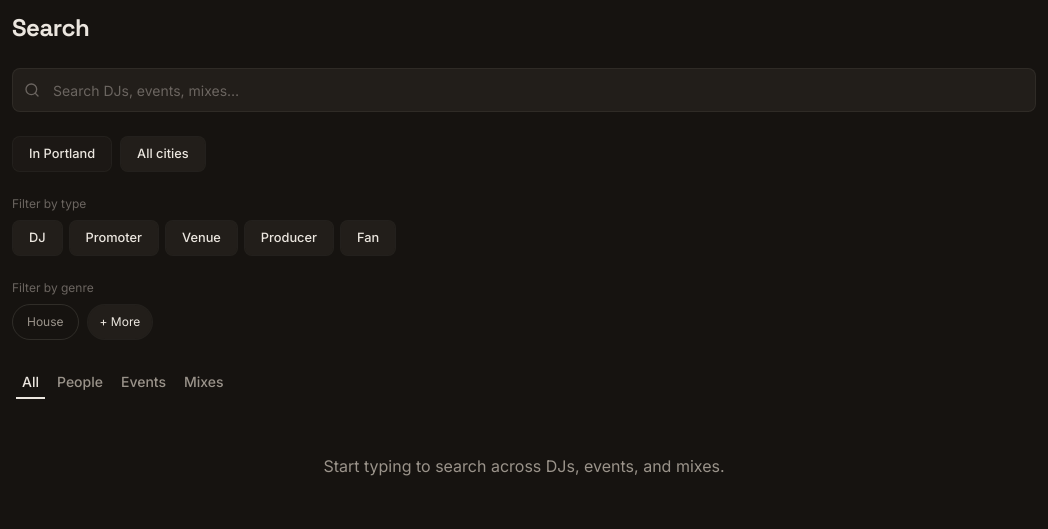
it: SearchPage › shows results after search completes
In the field labelled "Search": (524, 90) [12,68,1036,112], type "house"
Wait 350 ms
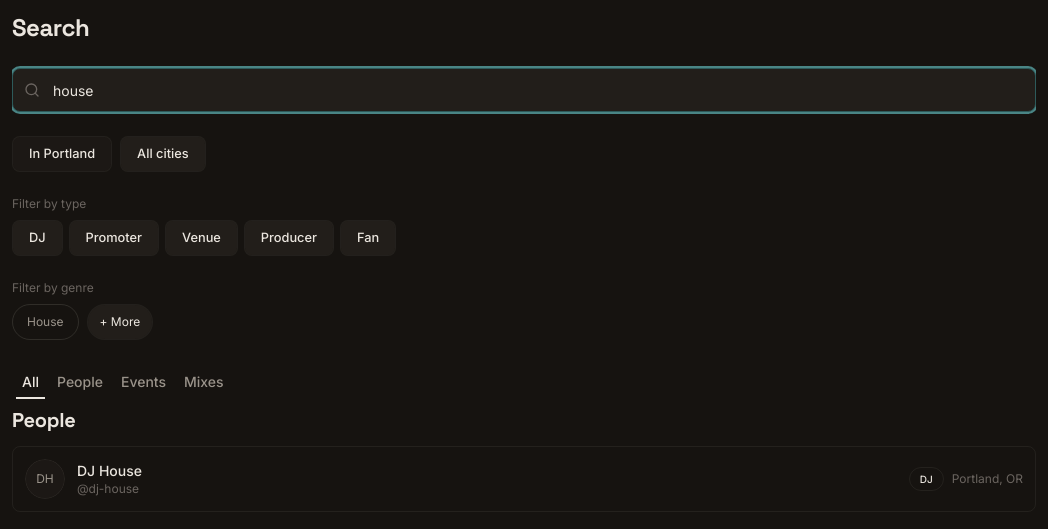
expect the text "DJ House" is shown: met, box [77,462,142,479]
